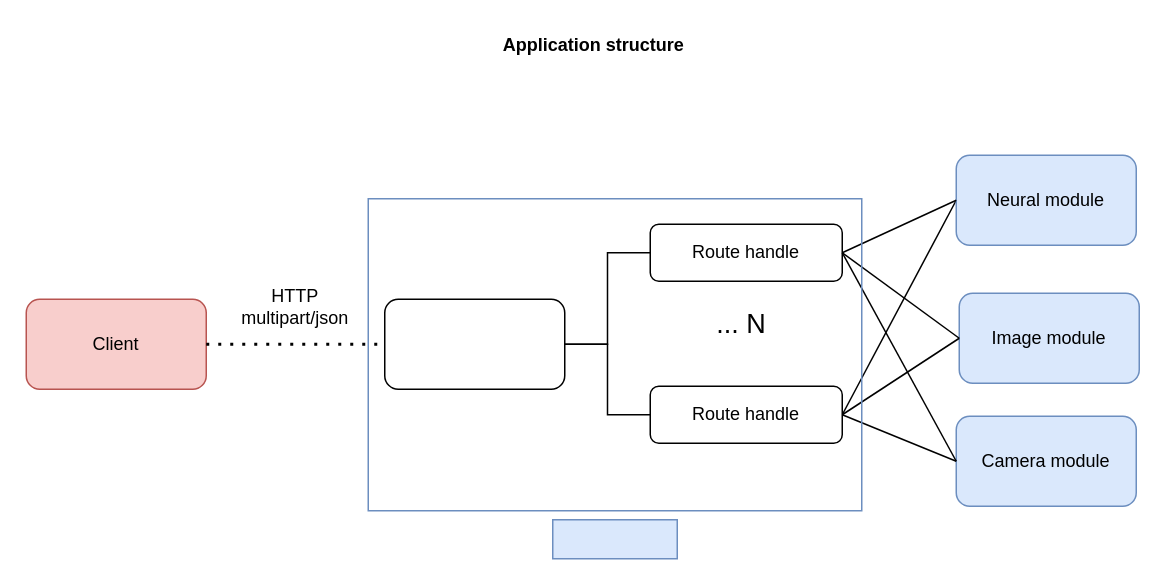
Image size: 1166x585. Some labels were removed from this diagram. Here are the shapes that lost their labels. From the top down, the box of each, then its label:
(383, 298, 565, 389): Axum router
(551, 518, 677, 559): web module
